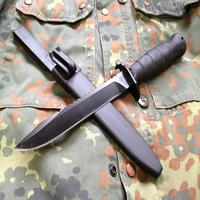knife: (12, 34, 182, 151)
